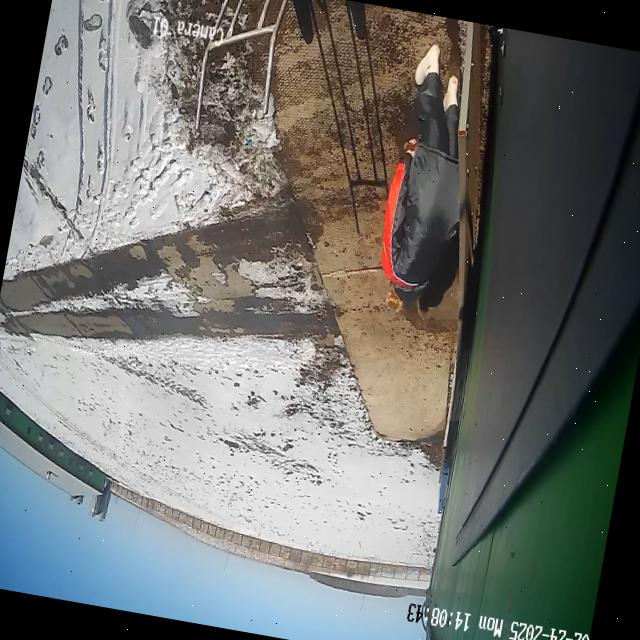Red uniform: (382, 44, 459, 311)
